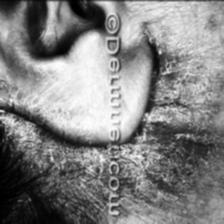Toxin: (0, 86, 112, 196), (140, 90, 204, 204)
